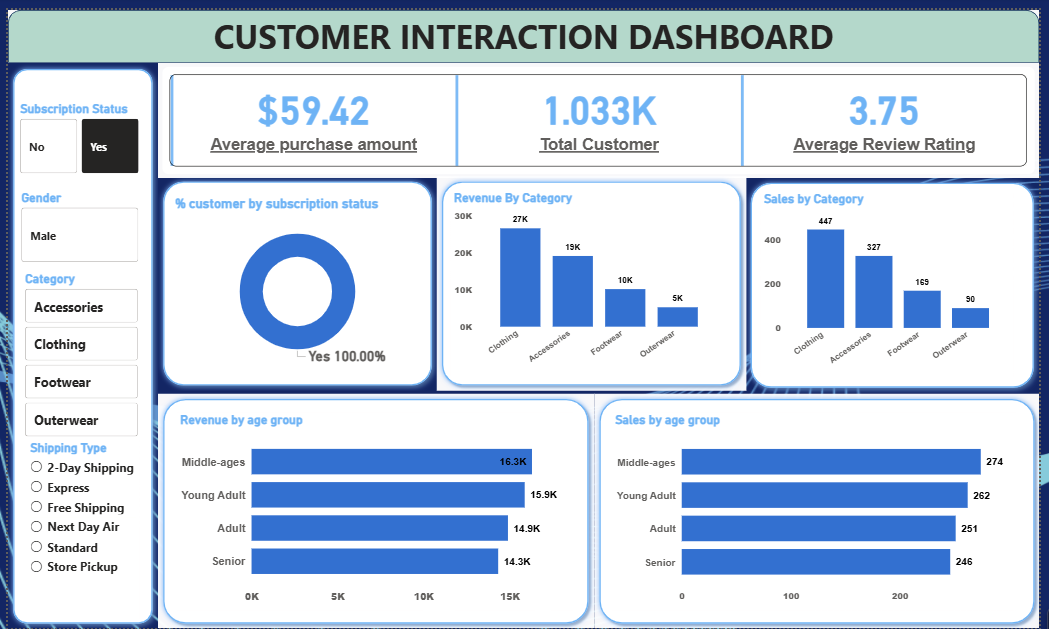

The page's visual inventory and layout, read from the dashboard file:
{"tool":"powerbi","page":{"name":"Page 1","canvas":[1500,900],"ordinal":0},"visuals":[{"type":"cardVisual","fields":{"Data":["public customer.average purchase amount","public customer.count of customer","Avg(public customer.review_rating)"]},"box":[218,76,1282,168],"z":0},{"type":"shape","box":[0,0,1500,76.7],"z":1000},{"type":"shape","box":[218,242,406,312],"z":2000},{"type":"donutChart","title":"%  customer by subscription status","fields":{"Category":["public customer.subscription_status"],"Y":["Sum(public customer.customer_id)"]},"box":[238,270,366,256],"z":3000},{"type":"shape","box":[1073.3,243.3,427,313.3],"z":4000},{"type":"shape","box":[624,242,450,312],"z":5000},{"type":"clusteredColumnChart","title":"Revenue By Category","fields":{"Y":["Sum(public customer.purchase_amount)"],"Category":["public customer.category"]},"box":[644,262,398,270],"z":6000},{"type":"clusteredColumnChart","title":"Sales by Category","fields":{"Category":["public customer.category"],"Y":["CountNonNull(public customer.customer_id)"]},"box":[1094,264,368,270],"z":7000},{"type":"shape","box":[218,558,634,342],"z":8000},{"type":"textbox","box":[0,0,1500,76],"z":9000},{"type":"shape","box":[0,78,218,822],"z":10000},{"type":"advancedSlicerVisual","fields":{"Values":["public customer.subscription_status"]},"box":[12,132,182,110],"z":11000},{"type":"advancedSlicerVisual","fields":{"Values":["public customer.gender"]},"box":[14,262,180,110],"z":12000},{"type":"advancedSlicerVisual","title":"Category","fields":{"Values":["public customer.category"]},"box":[20,380,174,246],"z":13000},{"type":"listSlicer","fields":{"Values":["public customer.shipping_type"]},"box":[28,626,164,260],"z":14000},{"type":"barChart","title":"Revenue by age group","fields":{"Y":["Sum(public customer.purchase_amount)"],"Category":["public customer.age_group"]},"box":[246,586,576,288],"z":15000},{"type":"shape","box":[852,558,648,342],"z":16000},{"type":"barChart","title":"Sales by age group","fields":{"Y":["CountNonNull(public customer.customer_id)"],"Category":["public customer.age_group"]},"box":[878,586,588,288],"z":17000}]}

Visuals, with their boxes in screenshot pixels (x1, y1, x2, y2), scaled from the page's 1500x900 canvas onto the 1049x629 screenshot:
cardVisual - public customer.average purchase amount x public customer.count of customer: 152,53,1048,171
shape: 0,0,1048,54
shape: 152,169,436,387
"%  customer by subscription status" donutChart: 166,189,422,368
shape: 751,170,1048,389
shape: 436,169,751,387
"Revenue By Category" clusteredColumnChart: 450,183,729,372
"Sales by Category" clusteredColumnChart: 765,185,1022,373
shape: 152,390,596,628
textbox: 0,0,1048,53
shape: 0,55,152,628
advancedSlicerVisual - public customer.subscription_status: 8,92,136,169
advancedSlicerVisual - public customer.gender: 10,183,136,260
"Category" advancedSlicerVisual: 14,266,136,438
listSlicer - public customer.shipping_type: 20,438,134,619
"Revenue by age group" barChart: 172,410,575,611
shape: 596,390,1048,628
"Sales by age group" barChart: 614,410,1025,611
